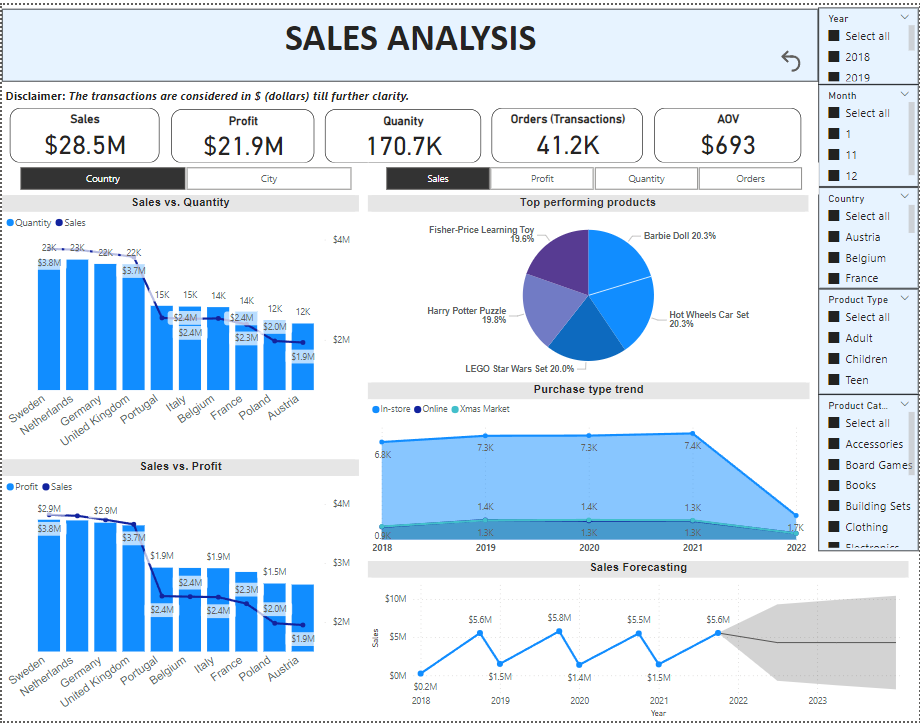

Layout of this report page (visuals, bound fields, positions):
{"tool":"powerbi","page":{"name":"Sales Analysis","canvas":[1280,1000],"ordinal":1},"visuals":[{"type":"textbox","box":[0,5,1140,101.7],"z":0},{"type":"card","title":"Sales","fields":{"Values":["Sum(Xmas Dataset.Total Sales)"]},"box":[11.4,142.9,208.6,77.1],"z":1000},{"type":"card","title":"Profit","fields":{"Values":["Xmas Dataset.Total Profit"]},"box":[236.7,145,200,75],"z":2000},{"type":"card","title":"Quanity","fields":{"Values":["Xmas Dataset.Overall_Quantity"]},"box":[451.7,145,218.3,75],"z":3000},{"type":"card","title":"Orders (Transactions)","fields":{"Values":["Xmas Dataset.Total Orders"]},"box":[684.3,142.9,211.4,77.1],"z":4000},{"type":"card","title":"AOV","fields":{"Values":["Xmas Dataset.AOV"]},"box":[910,143.3,205,76.7],"z":5000},{"type":"textbox","box":[0,110,1140,32.9],"z":6000},{"type":"slicer","fields":{"Values":["Xmas Dataset.Date.Variation.Date Hierarchy.Year"]},"box":[1140,4.3,140,107.1],"z":7000},{"type":"slicer","fields":{"Values":["Xmas Dataset.Month"]},"box":[1140,111.4,140,142.9],"z":8000},{"type":"slicer","fields":{"Values":["Xmas Dataset.Country"]},"box":[1140,254.3,140,141.4],"z":9000},{"type":"slicer","fields":{"Values":["Xmas Dataset.Product Type"]},"box":[1140,395.7,140,147.1],"z":10000},{"type":"slicer","fields":{"Values":["Xmas Dataset.Product Category"]},"box":[1140,542.9,140,218.6],"z":11000},{"type":"lineChart","title":"Sales Forecasting","fields":{"Y":["Sum(Xmas Dataset.Total Sales)"],"Category":["Xmas Dataset.Date.Variation.Date Hierarchy.Year","Xmas Dataset.Date.Variation.Date Hierarchy.Quarter"]},"box":[510,776.7,755,223.3],"z":12000},{"type":"areaChart","title":"Purchase type trend","fields":{"Category":["Xmas Dataset.Date.Variation.Date Hierarchy.Year"],"Series":["Xmas Dataset.Purchase Type"],"Y":["CountNonNull(Xmas Dataset.Purchase Type)"]},"box":[510,526.7,616.7,250],"z":13000},{"type":"pieChart","title":"Top performing products","fields":{"Y":["Xmas Dataset.Total_Sales"],"Category":["Xmas Dataset.Product Name"]},"box":[511.7,265,615,261.7],"z":14000},{"type":"slicer","fields":{"Values":["Metric Selection.Metric Selection"]},"box":[510,220,630,44.3],"z":15000},{"type":"slicer","fields":{"Values":["City & Country Parameter.City & Country Parameter"]},"box":[0,220,511.4,44.3],"z":16000},{"type":"lineClusteredColumnComboChart","title":"Sales vs. Quantity","fields":{"Category":["Xmas Dataset.Country"],"Y2":["Xmas Dataset.Total_Sales"],"Y":["Sum(Xmas Dataset.Quantity)"]},"box":[0,265,498.3,370],"z":17000},{"type":"lineClusteredColumnComboChart","title":"Sales vs. Profit","fields":{"Category":["Xmas Dataset.Country"],"Y2":["Xmas Dataset.Total_Sales"],"Y":["Xmas Dataset.Total Profit"]},"box":[0,635,498.3,365],"z":18000},{"type":"actionButton","box":[1081.7,58.3,58.3,40],"z":19000}]}

Visuals, with their boxes in screenshot pixels (x1, y1, x2, y2), scaled from the page's 1280x1000 canvas onto the 920x724 screenshot:
textbox: detection(0, 4, 819, 77)
"Sales" card: detection(8, 103, 158, 159)
"Profit" card: detection(170, 105, 314, 159)
"Quanity" card: detection(325, 105, 482, 159)
"Orders (Transactions)" card: detection(492, 103, 644, 159)
"AOV" card: detection(654, 104, 801, 159)
textbox: detection(0, 80, 819, 103)
slicer - Xmas Dataset.Date.Variation.Date Hierarchy.Year: detection(819, 3, 919, 81)
slicer - Xmas Dataset.Month: detection(819, 81, 919, 184)
slicer - Xmas Dataset.Country: detection(819, 184, 919, 286)
slicer - Xmas Dataset.Product Type: detection(819, 286, 919, 393)
slicer - Xmas Dataset.Product Category: detection(819, 393, 919, 551)
"Sales Forecasting" lineChart: detection(367, 562, 909, 723)
"Purchase type trend" areaChart: detection(367, 381, 810, 562)
"Top performing products" pieChart: detection(368, 192, 810, 381)
slicer - Metric Selection.Metric Selection: detection(367, 159, 819, 191)
slicer - City & Country Parameter.City & Country Parameter: detection(0, 159, 368, 191)
"Sales vs. Quantity" lineClusteredColumnComboChart: detection(0, 192, 358, 460)
"Sales vs. Profit" lineClusteredColumnComboChart: detection(0, 460, 358, 723)
actionButton: detection(777, 42, 819, 71)
